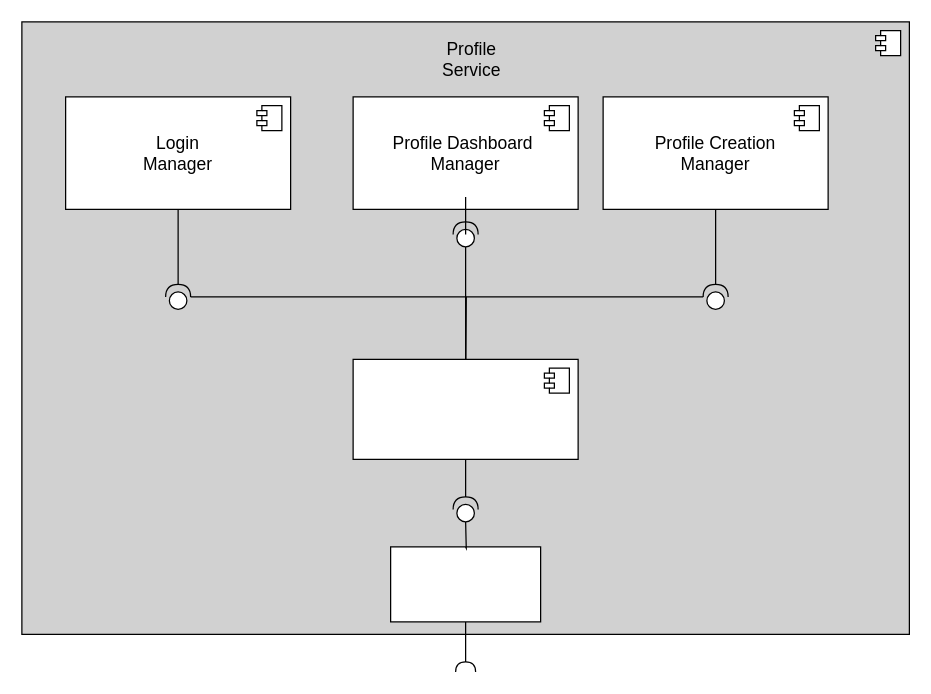
Image size: 931x694. Some labels were removed from this diagram. Here are the shapes that lost their labels. From the top down, the centre of each, then its label:
At (x=465, y=408): "Security/Encryption".
At (x=465, y=584): "SQL Processer".
